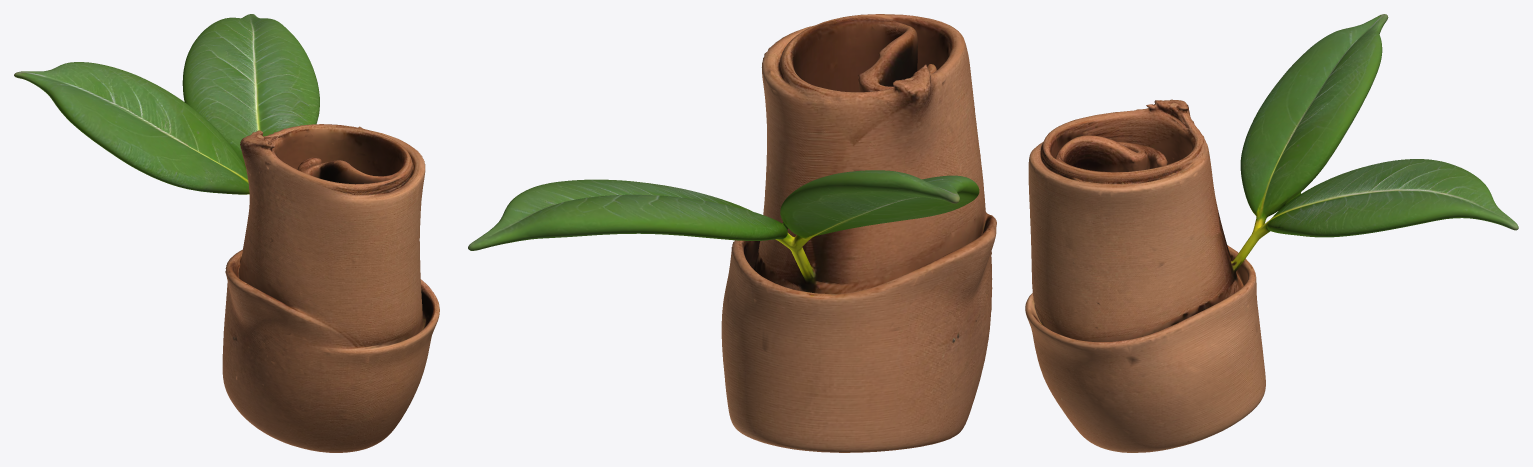
File: yinxiang.glb
3 views of the same model, side by side, from view 1: azimuth 30°, elevation 25°; view 2: azimuth 150°, elevation 25°; view 3: azimuth 270°, elevation 25° (orthographic). The views are drawn at different scales.
Parts seen in each view (by area): view 1: node_0; view 2: node_0; view 3: node_0.
Part boxes in pixels (x1,y1,x2,y2): node_0: [14, 14, 439, 452]; node_0: [468, 14, 996, 452]; node_0: [1025, 14, 1518, 452].
Size of the model in its own units: 0.6669 by 0.6643 by 0.9225.
Materials: 1 (1 with a texture image).
